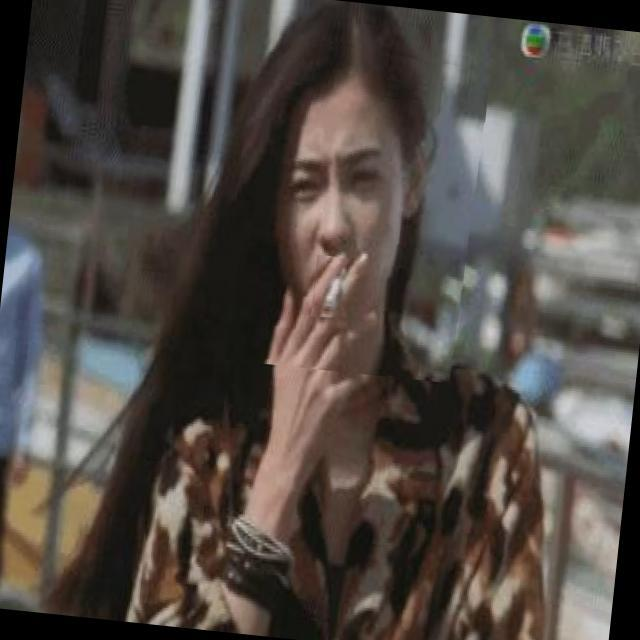cigarette: (310, 254, 357, 320)
